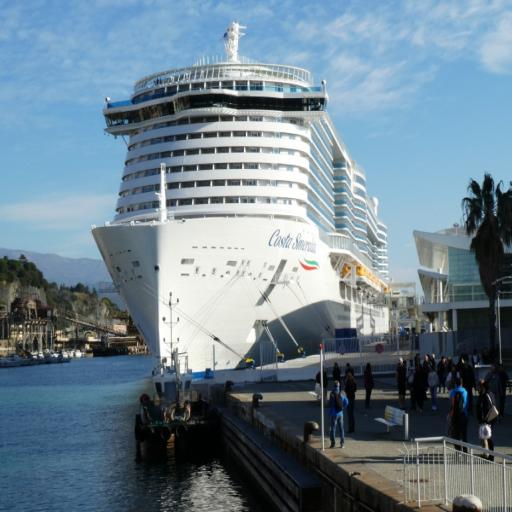cruises: (94, 18, 412, 378)
